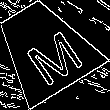M_NW: (10, 15, 79, 82)
